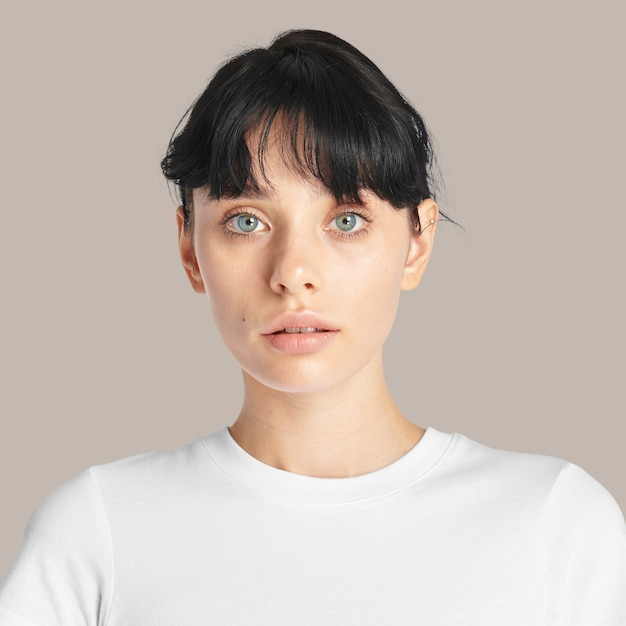teen: (150, 22, 435, 439)
